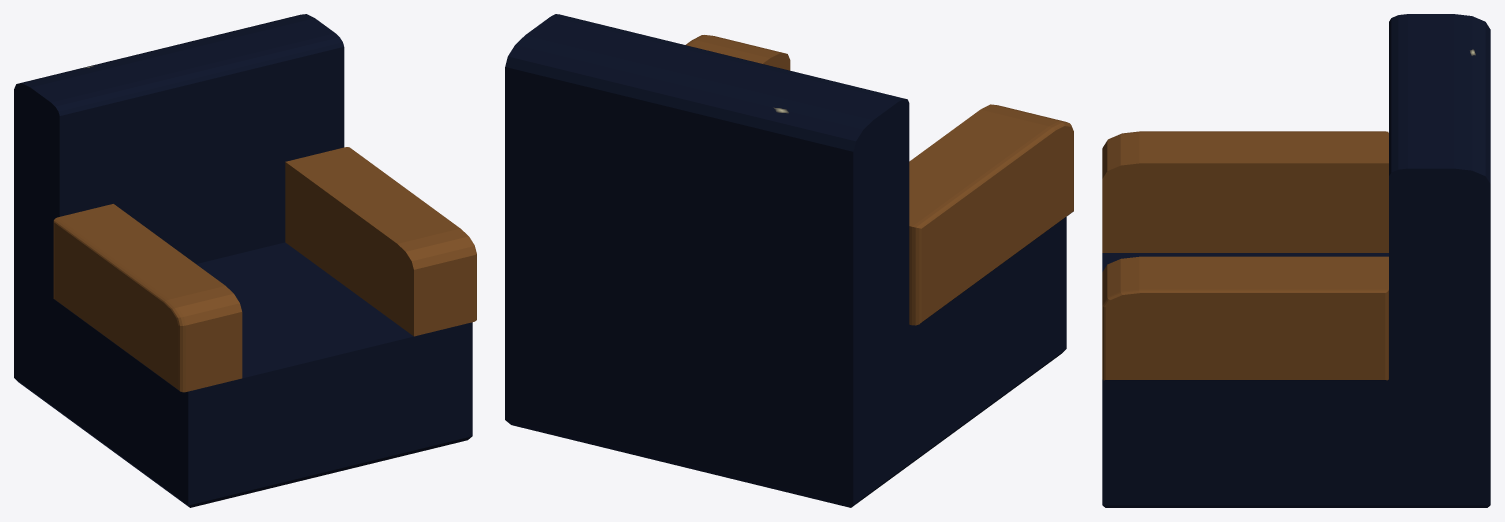
Rendered from SmallCouch.fbx.
3 renders of one model, left to right at view 1: azimuth 30°, elevation 25°; view 2: azimuth 150°, elevation 25°; view 3: azimuth 270°, elevation 25°, orthographic. The views are drawn at different scales.
Parts seen in each view (by area): view 1: Small Couch; view 2: Small Couch; view 3: Small Couch.
Part boxes in pixels (left/top/right/bottom): Small Couch: left=14, top=14, right=476, bottom=507; Small Couch: left=505, top=14, right=1073, bottom=507; Small Couch: left=1102, top=14, right=1490, bottom=507.
Size of the model in its own units: 106 by 106 by 108.
